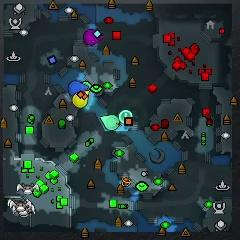Other: (120, 110, 133, 124)
p1: (67, 81, 89, 97)
p2: (99, 114, 120, 133)
p3: (83, 29, 105, 44)
p4: (71, 90, 89, 109)
